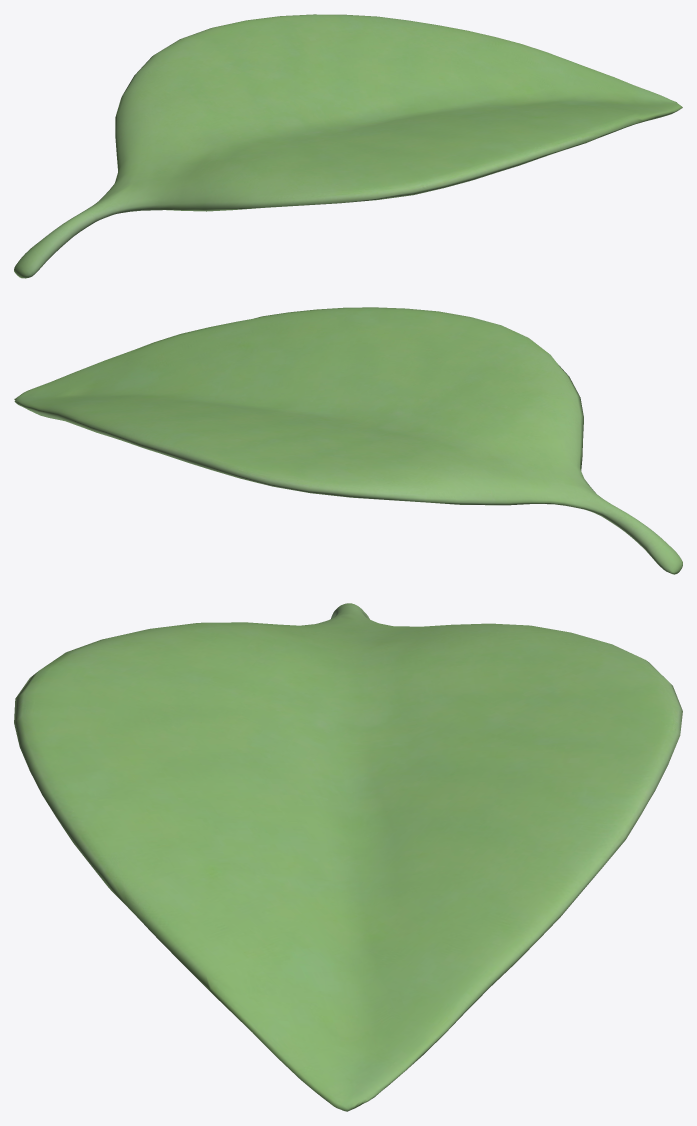
The model's file is pothos_mint_simple.glb.
3 views of the same model, one above another, from view 1: azimuth 30°, elevation 25°; view 2: azimuth 150°, elevation 25°; view 3: azimuth 270°, elevation 25° (orthographic). The views are drawn at different scales.
Size of the model in its own units: 2 by 0.2929 by 1.14.
Materials: 1 (1 with a texture image).
